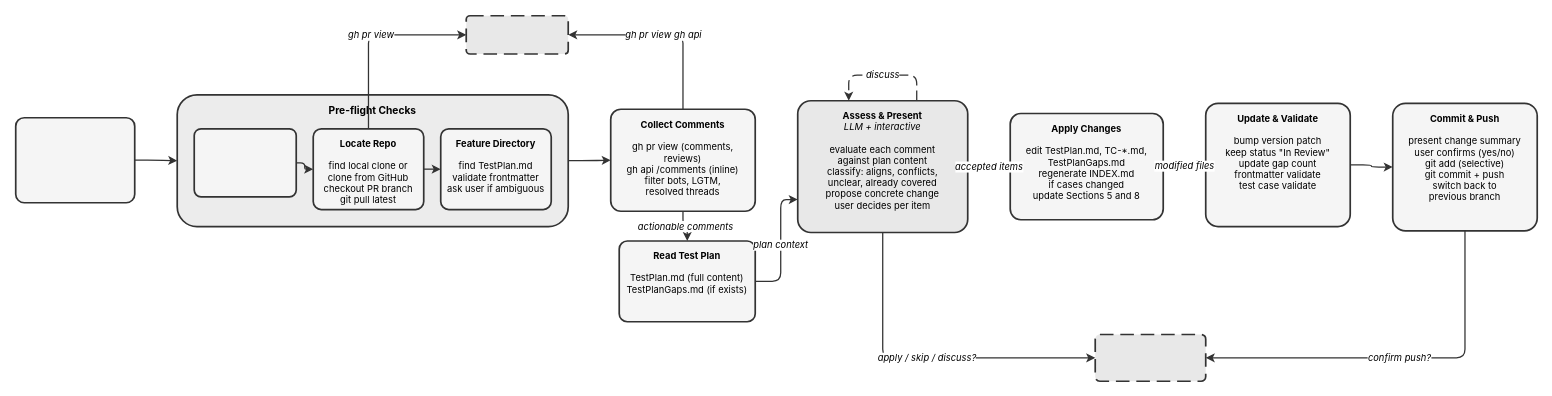
This 1552x396 diagram has some shape labels left out. The centre of each missing label's shape, as x and y in pixels:
"/test-plan-resolve-feedback PR URL (required) parse owner/repo/number" belongs at (x=74, y=159).
"Environment uv sync --extra dev gh auth status" belongs at (x=245, y=162).
"GitHub CLI" belongs at (x=517, y=34).
"User (AskUserQuestion)" belongs at (x=1150, y=357).
